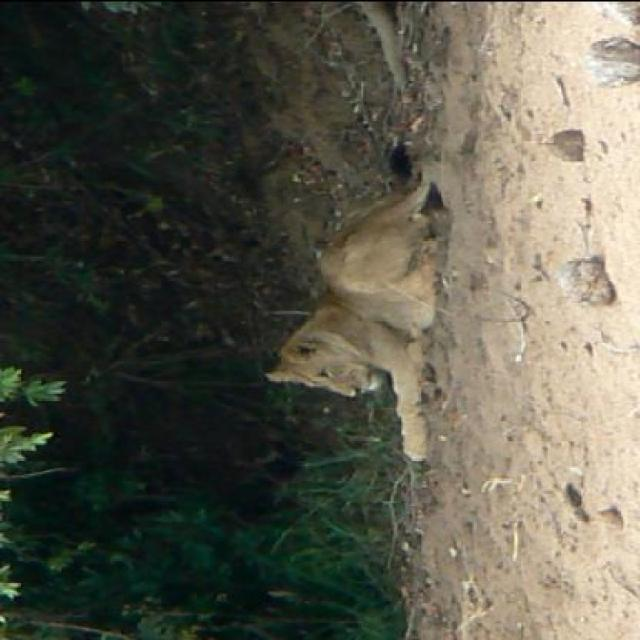Lion: (252, 143, 468, 489)
